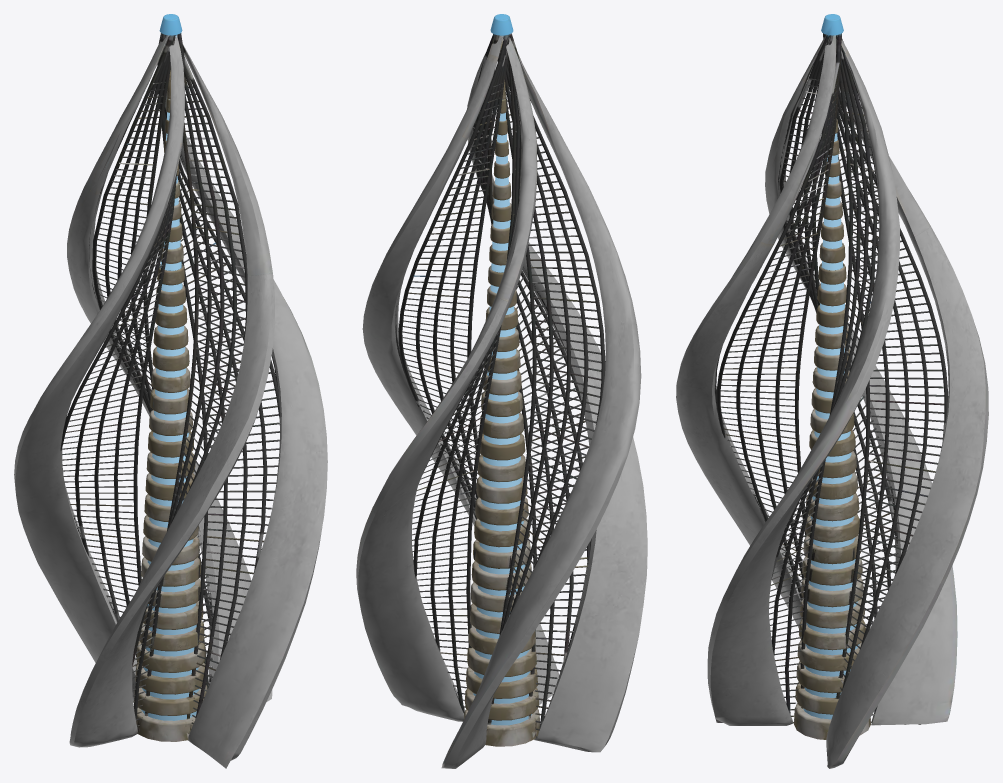
The model's file is sci-fi_building_2.glb.
The picture shows the model from 3 angles, left to right: view 1: azimuth 30°, elevation 25°; view 2: azimuth 150°, elevation 25°; view 3: azimuth 270°, elevation 25°; orthographic projection.
Visible parts, largest first — view 1: base2__0; view 2: base2__0; view 3: base2__0.
Boxes of the visible parts, x1=… form: base2__0: x1=14, y1=14, x2=327, y2=768; base2__0: x1=356, y1=14, x2=647, y2=768; base2__0: x1=676, y1=14, x2=988, y2=768.
Size of the model in its own units: 80.86 by 202 by 80.96.
1 material, 1 textured.
